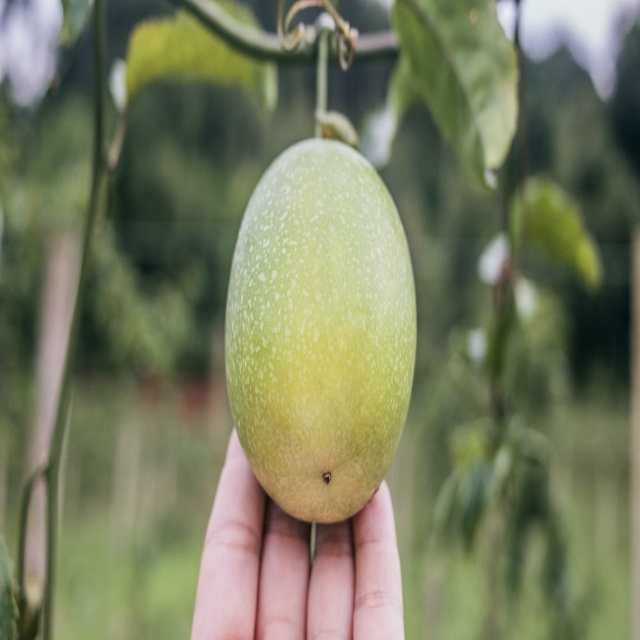mango: (224, 140, 422, 527)
